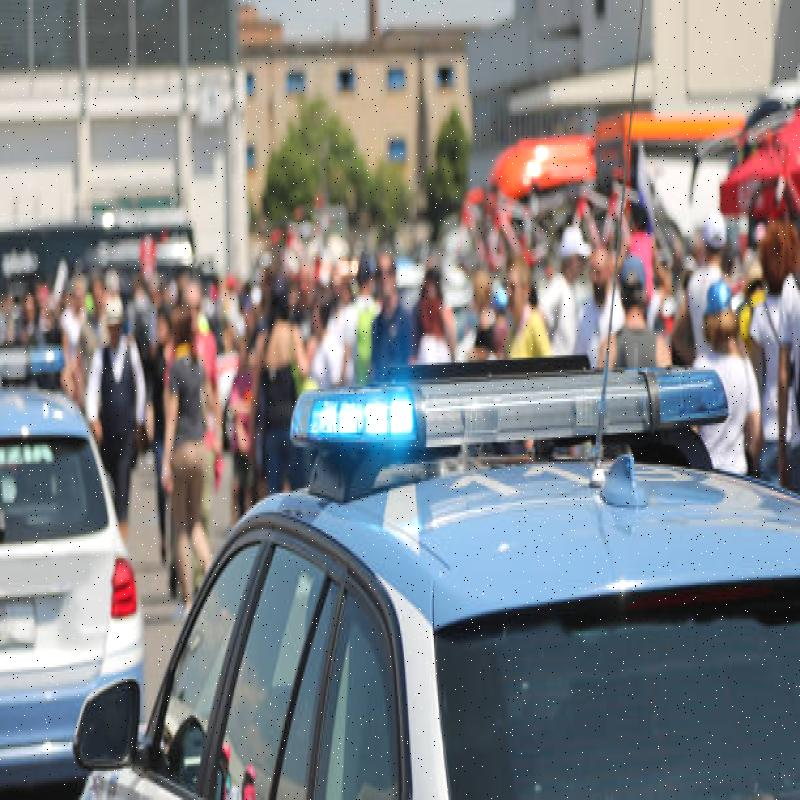AmbulanceSiren: (268, 334, 739, 469)
